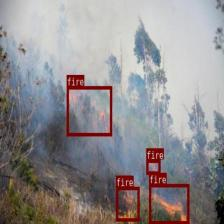fire: (66, 86, 111, 136), (149, 183, 189, 224), (116, 186, 139, 221), (146, 159, 160, 174)
